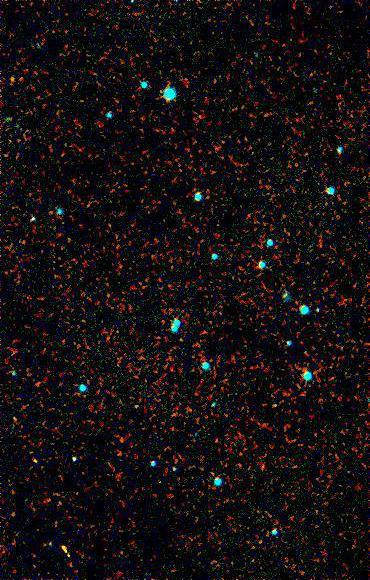star: (0, 64, 28, 94)
